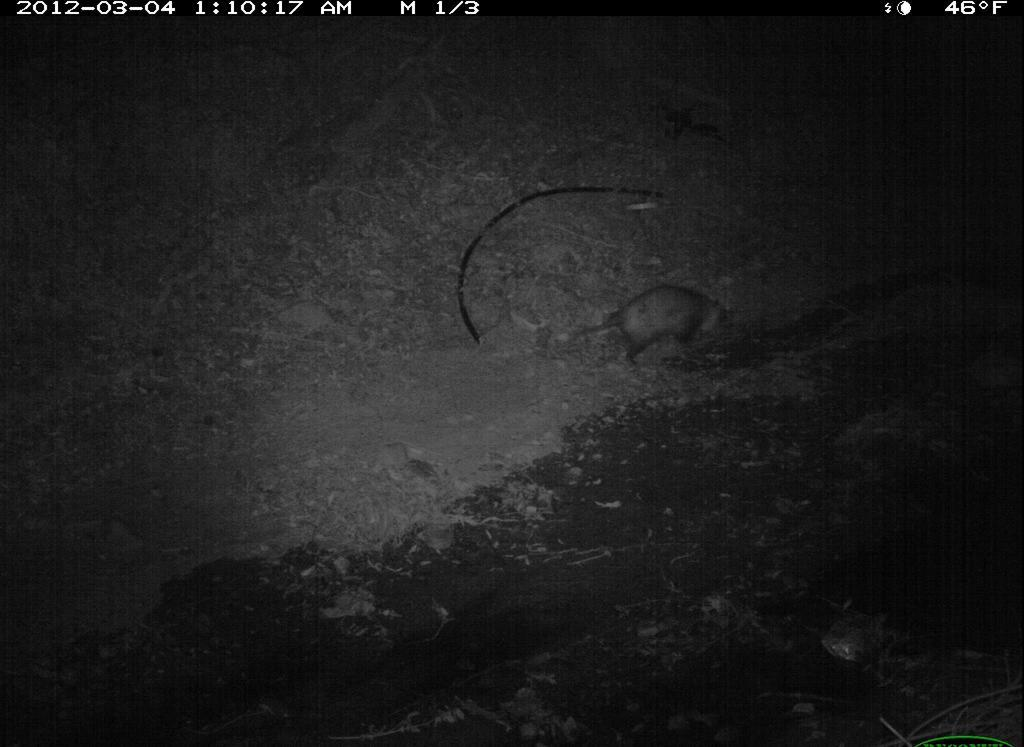opossum: (565, 281, 742, 379)
